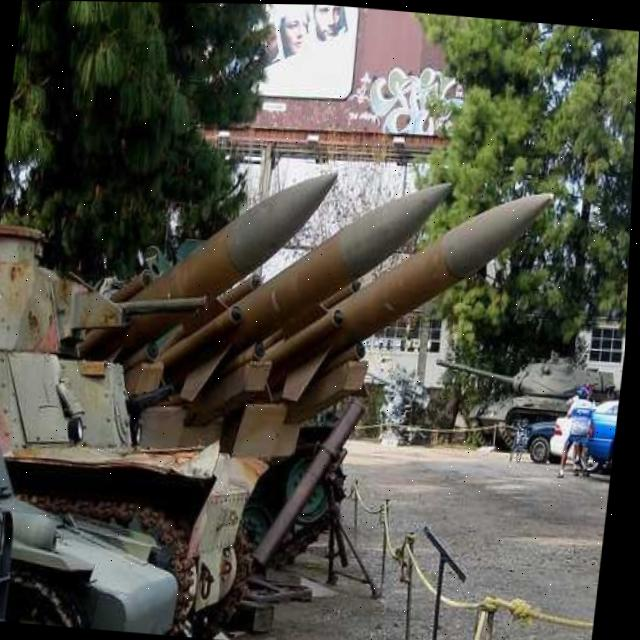missile: (259, 166, 556, 407), (206, 157, 460, 378), (106, 151, 341, 364)
